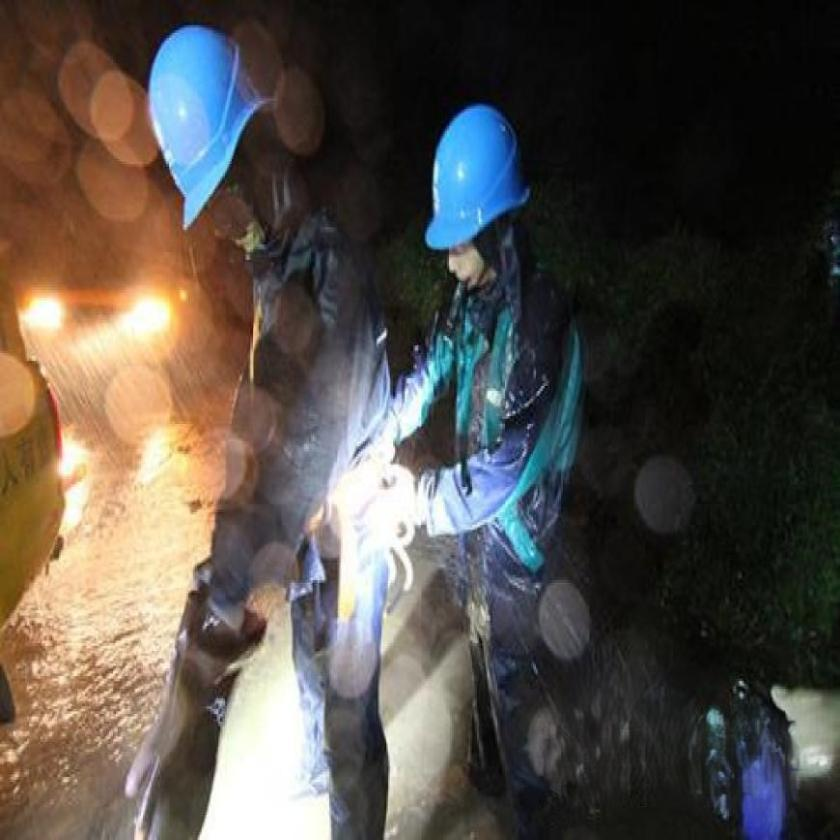Con_casco: (417, 84, 562, 305)
